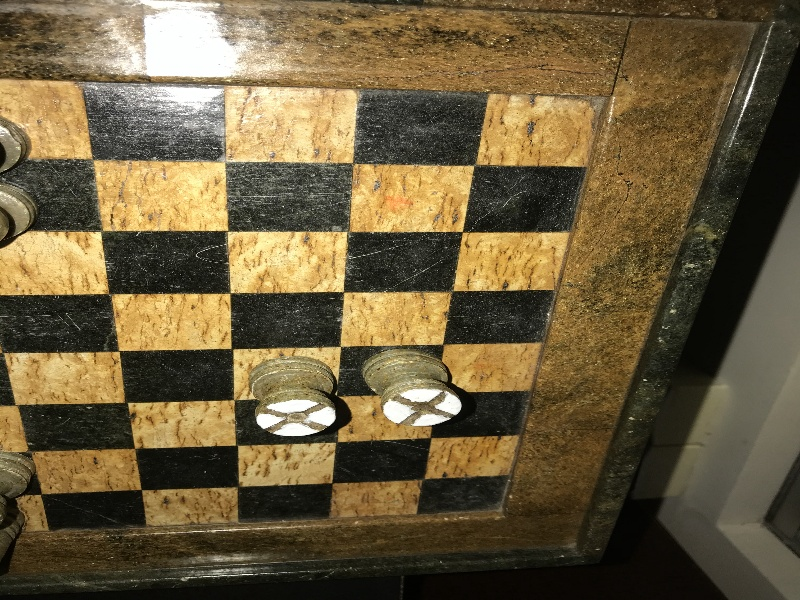WhiteBishop: (359, 349, 461, 426), (250, 357, 337, 437)
